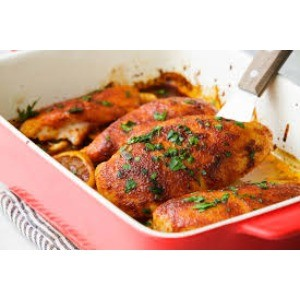chicken breast_brain food: (123, 128, 269, 179)
